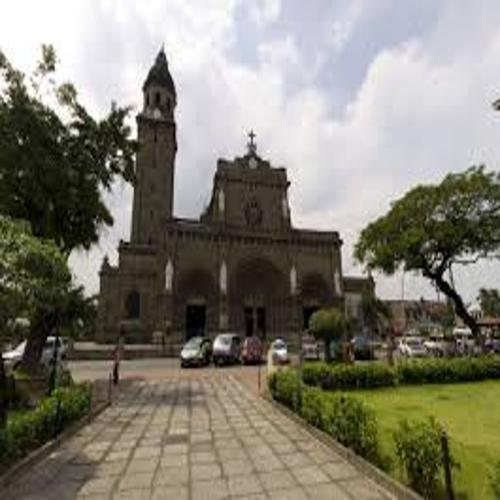Manila Cathedral Church: (71, 35, 383, 362)
